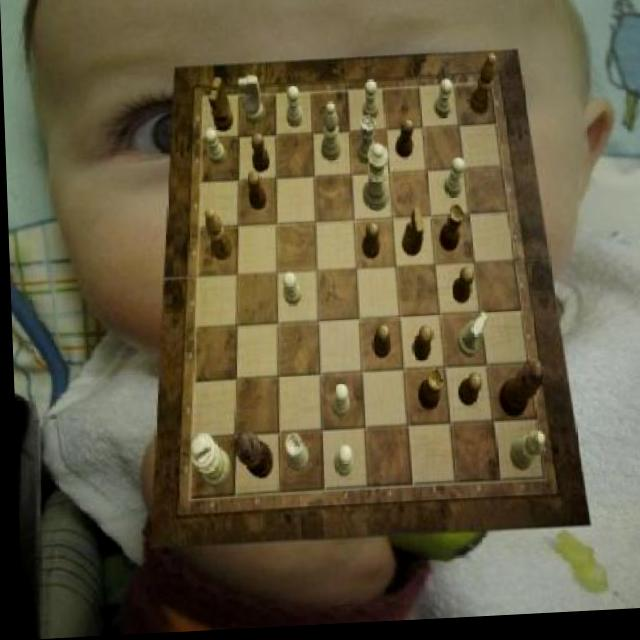bishop: (469, 60, 498, 121), (203, 209, 231, 263)
black-bishop: (232, 433, 271, 483)
black-king: (207, 78, 233, 134), (399, 213, 424, 263)
black-knight: (448, 270, 473, 309), (455, 378, 479, 411), (245, 174, 265, 213), (394, 123, 414, 162), (409, 331, 431, 366), (251, 136, 269, 175), (361, 227, 379, 265), (369, 328, 387, 362)
black-pawn: (496, 363, 544, 423)
black-queen: (438, 208, 465, 256), (415, 373, 440, 416)
black-rook: (506, 437, 543, 477), (319, 105, 341, 166)
white-bishop: (187, 435, 228, 491)
white-king: (454, 316, 487, 361), (238, 79, 264, 129)
white-knight: (441, 163, 464, 204), (204, 130, 225, 168), (361, 83, 380, 125), (284, 88, 302, 131), (434, 85, 452, 124), (327, 385, 347, 420), (330, 448, 350, 481), (281, 274, 299, 309)
white-pawn: (360, 148, 389, 216)
white-queen: (355, 119, 376, 169), (283, 436, 307, 475)
